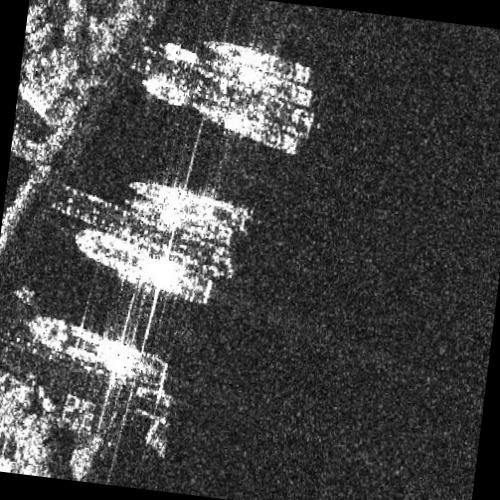ship: (27, 315, 168, 398), (75, 229, 214, 304), (194, 103, 298, 154), (124, 199, 233, 246), (207, 60, 312, 107), (204, 40, 312, 84), (129, 182, 221, 221), (141, 77, 190, 107), (163, 41, 199, 64)
